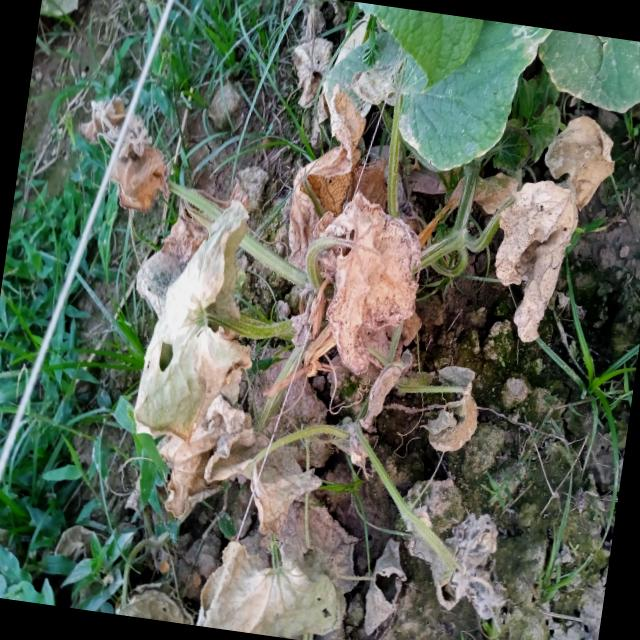cucumber_bacterial: (92, 167, 287, 463), (284, 184, 446, 423), (379, 466, 548, 630), (198, 497, 373, 640), (479, 172, 592, 372)
